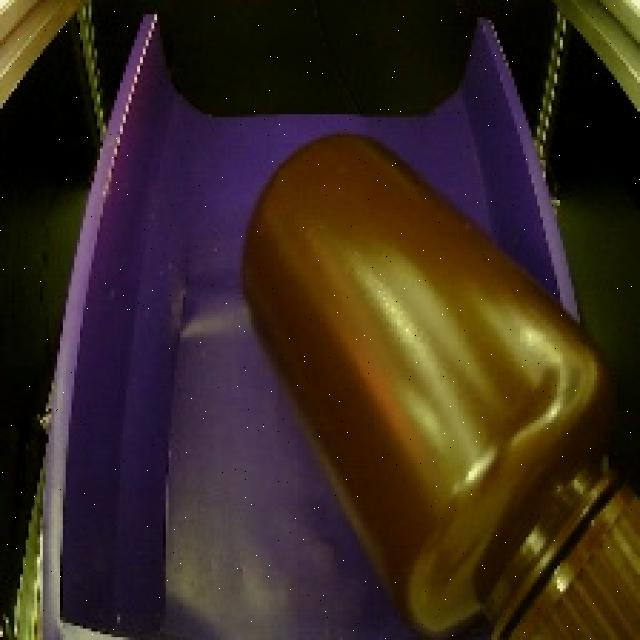plastic: (228, 110, 640, 640)
